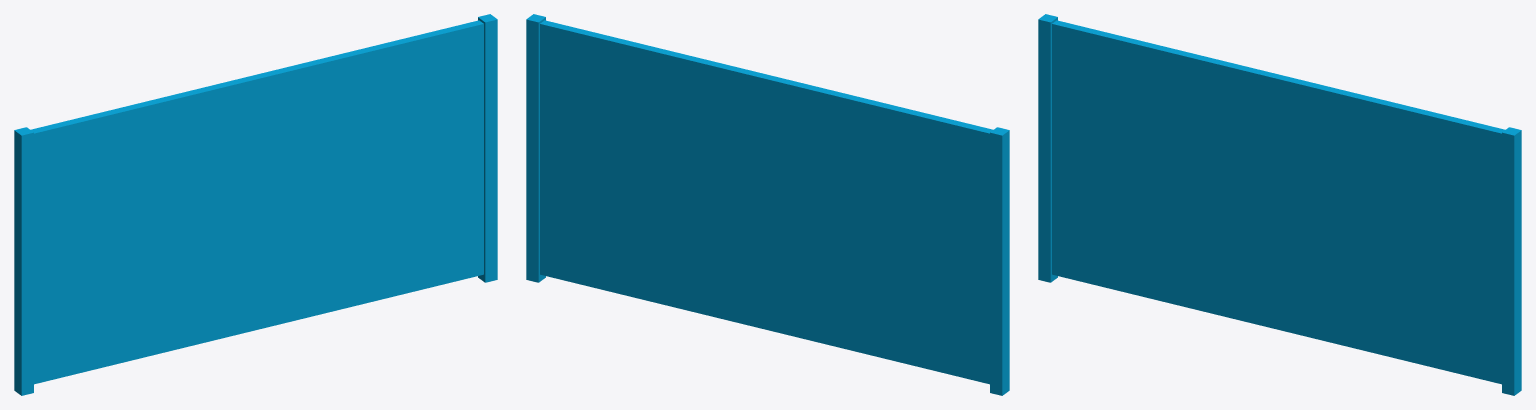
Rendered from Garden_Fence_02_Lod0.fbx.
The picture shows the model from 3 angles, left to right: view 1: azimuth 30°, elevation 25°; view 2: azimuth 150°, elevation 25°; view 3: azimuth 330°, elevation 25°; orthographic projection.
Parts seen in each view (by area): view 1: Garden_Fence_02_Lod0; view 2: Garden_Fence_02_Lod0; view 3: Garden_Fence_02_Lod0.
Part boxes in pixels (box(x1,y1,x2,y2)): Garden_Fence_02_Lod0: box(14, 14, 497, 395); Garden_Fence_02_Lod0: box(526, 14, 1009, 395); Garden_Fence_02_Lod0: box(1038, 14, 1521, 395).
Bounding box in the file's own units: 299 × 156 × 8.12.
